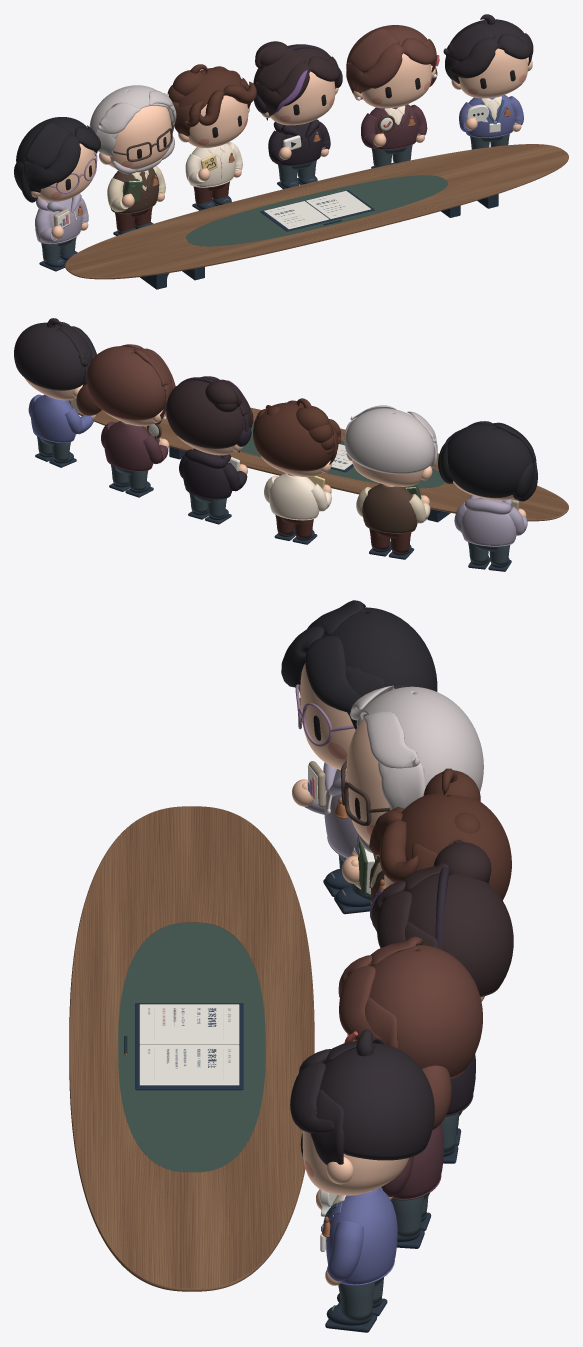
Rendered from assembly.glb.
The picture shows the model from 3 angles, top to bottom: view 1: azimuth 30°, elevation 25°; view 2: azimuth 150°, elevation 25°; view 3: azimuth 270°, elevation 25°; orthographic projection. The views are drawn at different scales.
Parts seen in each view (by area): view 1: table-top-walnut, agent-checker, agent-producer, agent-expert, agent-analyst, agent-assistant, agent-designer, writing-inlay-sage, folio-proof-draft, folio-proof-revision, folio-binding, trestle-left (+1 smaller); view 2: agent-analyst, agent-expert, agent-checker, agent-producer, agent-designer, agent-assistant, table-top-walnut, writing-inlay-sage; view 3: table-top-walnut, agent-assistant, writing-inlay-sage, agent-checker, agent-analyst, agent-expert, agent-producer, agent-designer, folio-proof-draft, folio-proof-revision, folio-binding.
Boxes of the visible parts, box(x1,y1,x2,y2) form: table-top-walnut: box(65, 144, 568, 279); agent-checker: box(346, 25, 439, 168); agent-producer: box(253, 41, 342, 189); agent-expert: box(89, 85, 176, 235); agent-analyst: box(14, 117, 100, 271); agent-assistant: box(443, 14, 533, 149); agent-designer: box(167, 64, 256, 210); writing-inlay-sage: box(186, 175, 447, 246); folio-proof-draft: box(264, 201, 328, 228); folio-proof-revision: box(306, 191, 370, 218); folio-binding: box(260, 190, 374, 231); trestle-left: box(140, 267, 204, 289); agent-analyst: box(438, 421, 537, 571); agent-expert: box(344, 405, 437, 559); agent-checker: box(76, 344, 175, 497); agent-producer: box(166, 376, 253, 524); agent-designer: box(253, 398, 341, 544); agent-assistant: box(14, 318, 96, 467); table-top-walnut: box(68, 399, 568, 521); writing-inlay-sage: box(240, 421, 445, 488); table-top-walnut: box(69, 806, 314, 1291); agent-assistant: box(290, 1029, 434, 1332); writing-inlay-sage: box(118, 922, 265, 1172); agent-checker: box(338, 936, 482, 1248); agent-analyst: box(281, 600, 437, 914); agent-expert: box(341, 685, 483, 931); agent-producer: box(370, 840, 513, 1163); agent-designer: box(369, 768, 511, 900); folio-proof-draft: box(140, 1004, 238, 1043); folio-proof-revision: box(140, 1045, 238, 1084); folio-binding: box(135, 1003, 243, 1090).
Size of the model in its own units: 6.69 by 1.78 by 2.52.
Materials: 102 (3 with a texture image).
